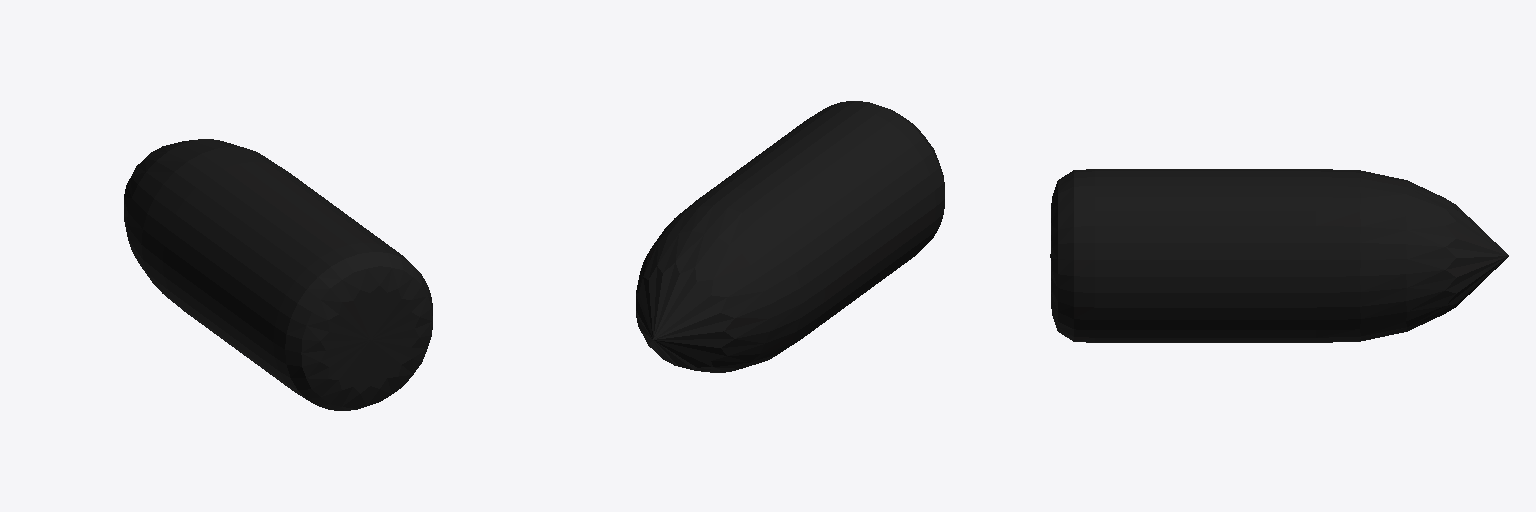
The model's file is Projectile.obj.
3 renders of one model, left to right at view 1: azimuth 30°, elevation 25°; view 2: azimuth 150°, elevation 25°; view 3: azimuth 270°, elevation 25°, orthographic.
Parts seen in each view (by area): view 1: Cylinder_Cylinder; view 2: Cylinder_Cylinder; view 3: Cylinder_Cylinder.
Part boxes in pixels (x1,y1,x2,y2): Cylinder_Cylinder: (124, 139, 432, 410); Cylinder_Cylinder: (636, 101, 944, 372); Cylinder_Cylinder: (1050, 169, 1508, 342).
Size of the model in its own units: 0.039 by 0.039 by 0.1027.